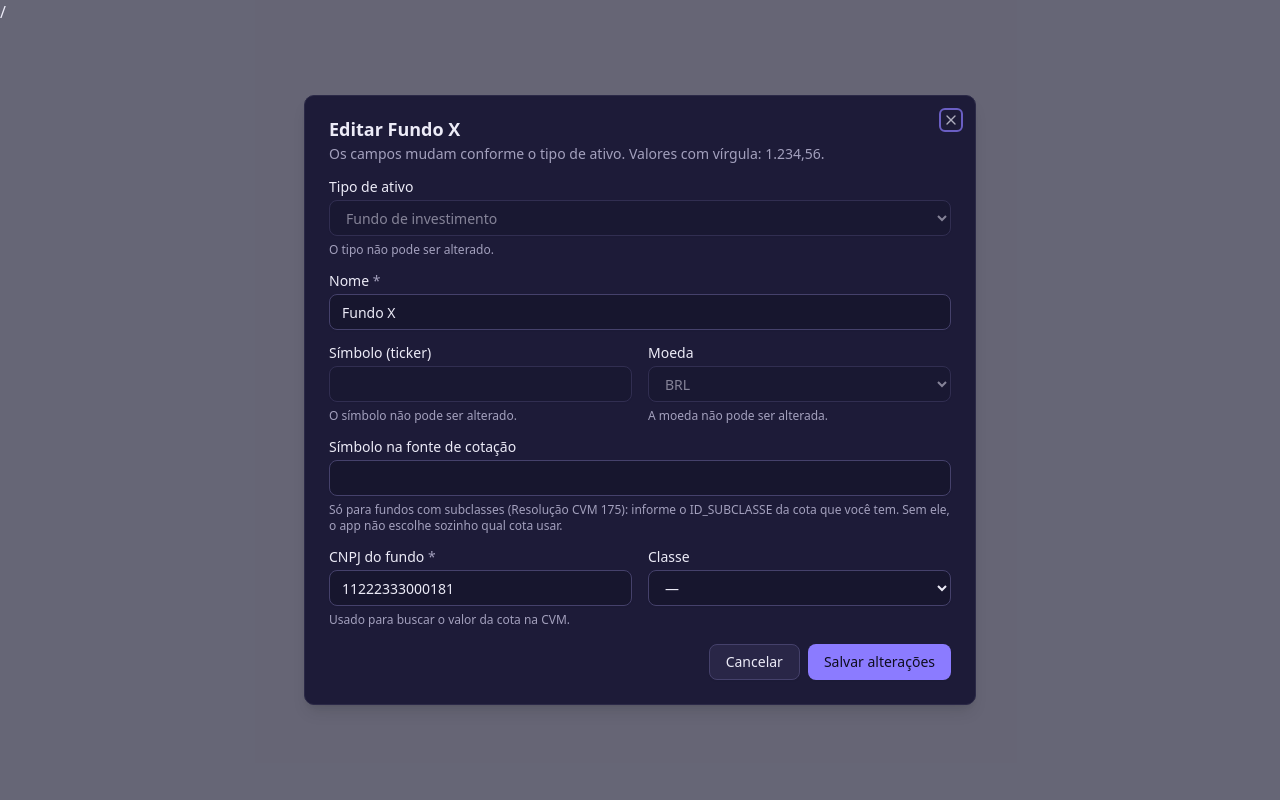
Test: edição de ativo (formulário gerado pelo schema do tipo) › erro por campo da API vai para o campo gerado (ex.: CNPJ)
Replace the text in the field labelled "CNPJ do fundo *" with "00.000.000/0000-00" at (480, 588), box [329,570,632,606]
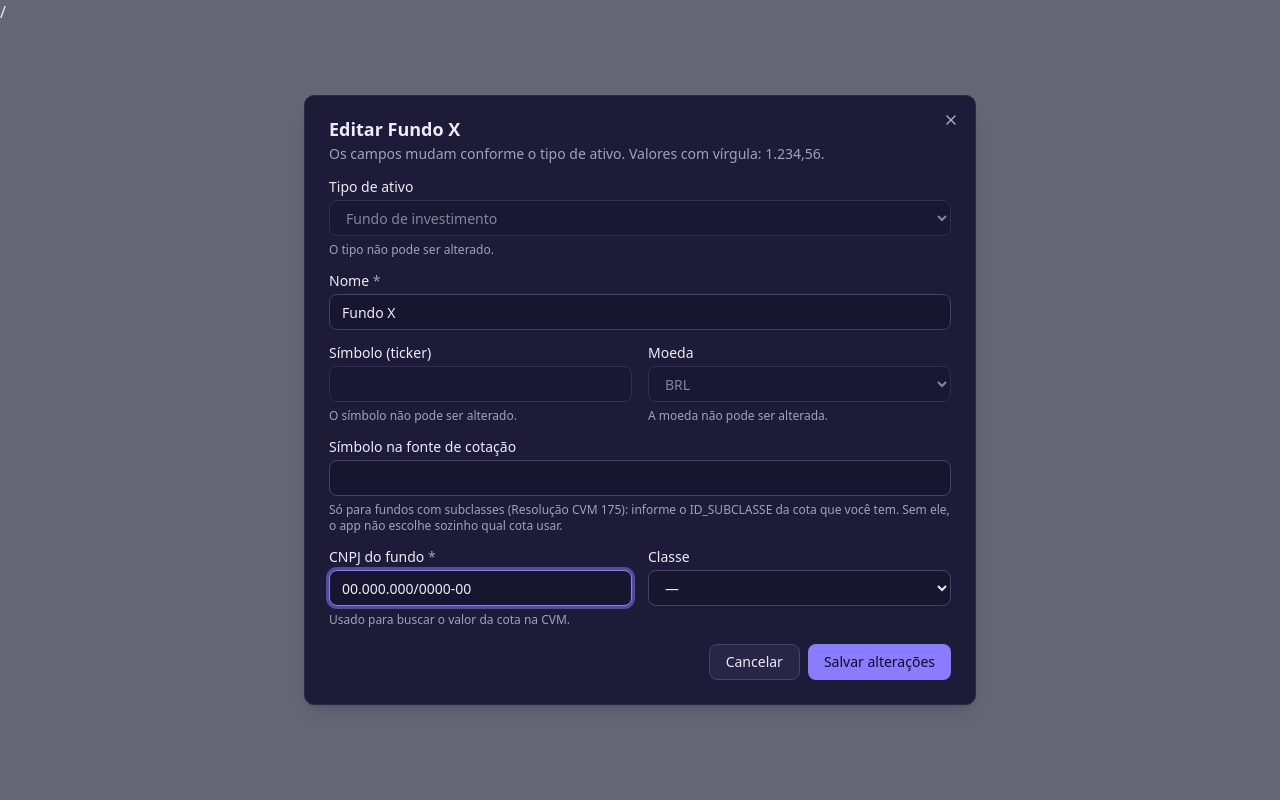
Click the button "Salvar alterações" at (879, 662), box [808,644,951,680]
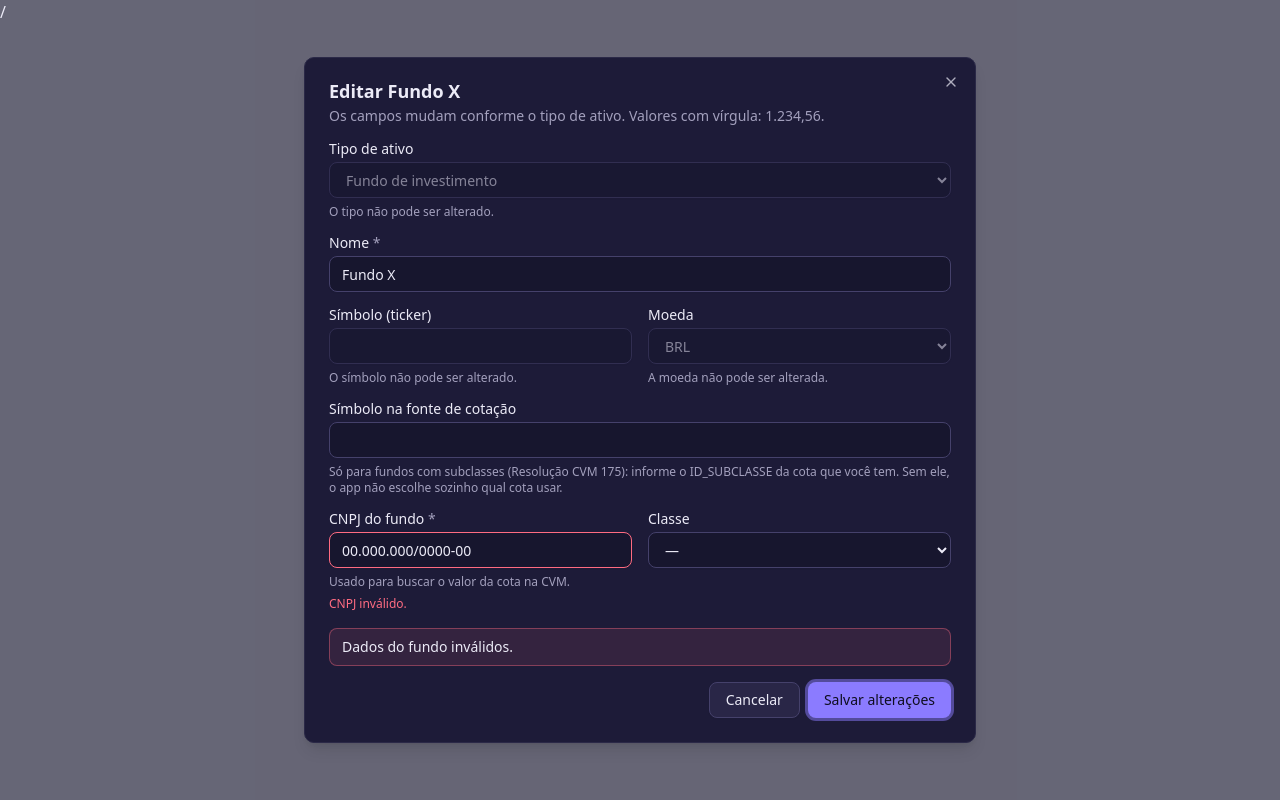
Check: the text "CNPJ inválido." is shown, box [329,595,407,612]
Check: the text "Dados do fundo inválidos." is shown, box [329,628,951,666]
